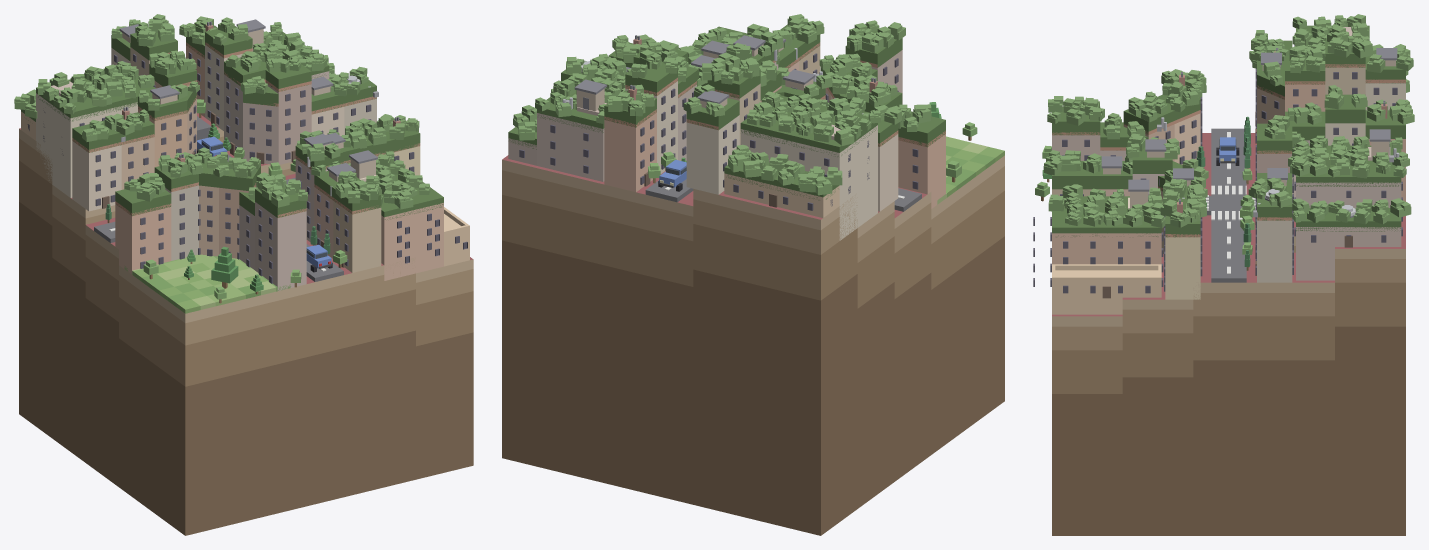
The model's file is block_16_greenroof_65.glb.
3 renders of one model, left to right at view 1: azimuth 30°, elevation 25°; view 2: azimuth 150°, elevation 25°; view 3: azimuth 270°, elevation 25°, orthographic. The views are drawn at different scales.
Visible parts, largest first — view 1: Patch_MidRight_b18_GR, Cerda_MidRight_b18_GR, GR_Roof_Cerda_MidRight_b18_GR, Insets_MidRight_b18_GR, Green_MidRight_b18_GR, CerdaRoofProps_MidRight_b18_GR, GR_Roof_Insets_MidRight_b18_GR, Roads_MidRight_b18_GR, Asset_Tree_Pine.005_GR; view 2: Patch_MidRight_b18_GR, Cerda_MidRight_b18_GR, Insets_MidRight_b18_GR, GR_Roof_Cerda_MidRight_b18_GR, GR_Roof_Insets_MidRight_b18_GR, CerdaRoofProps_MidRight_b18_GR, Green_MidRight_b18_GR, Roads_MidRight_b18_GR, Asset_Car.033_GR; view 3: Patch_MidRight_b18_GR, Cerda_MidRight_b18_GR, Insets_MidRight_b18_GR, GR_Roof_Cerda_MidRight_b18_GR, Roads_MidRight_b18_GR, GR_Roof_Insets_MidRight_b18_GR, CerdaRoofProps_MidRight_b18_GR, Asset_Car.034_GR, Zebra_MidRight_b18_GR.
Part boxes in pixels (x1,y1,x2,y2): Patch_MidRight_b18_GR: (19, 113, 473, 535); Cerda_MidRight_b18_GR: (72, 42, 420, 290); GR_Roof_Cerda_MidRight_b18_GR: (72, 25, 420, 217); Insets_MidRight_b18_GR: (21, 47, 469, 280); Green_MidRight_b18_GR: (124, 254, 290, 313); CerdaRoofProps_MidRight_b18_GR: (115, 19, 400, 196); GR_Roof_Insets_MidRight_b18_GR: (21, 31, 443, 219); Roads_MidRight_b18_GR: (94, 116, 343, 281); Asset_Tree_Pine.005_GR: (211, 246, 238, 288); Patch_MidRight_b18_GR: (502, 155, 1004, 535); Cerda_MidRight_b18_GR: (604, 42, 945, 211); Insets_MidRight_b18_GR: (508, 103, 877, 240); GR_Roof_Cerda_MidRight_b18_GR: (561, 24, 945, 147); GR_Roof_Insets_MidRight_b18_GR: (508, 26, 877, 200); CerdaRoofProps_MidRight_b18_GR: (562, 35, 877, 114); Green_MidRight_b18_GR: (937, 136, 1004, 204); Roads_MidRight_b18_GR: (645, 179, 921, 211); Asset_Car.033_GR: (658, 159, 686, 191); Patch_MidRight_b18_GR: (1052, 133, 1405, 535); Cerda_MidRight_b18_GR: (1052, 64, 1405, 299); Insets_MidRight_b18_GR: (1033, 27, 1402, 314); GR_Roof_Cerda_MidRight_b18_GR: (1052, 39, 1405, 237); Roads_MidRight_b18_GR: (1206, 128, 1255, 282); GR_Roof_Insets_MidRight_b18_GR: (1052, 25, 1401, 237); CerdaRoofProps_MidRight_b18_GR: (1101, 48, 1399, 217); Asset_Car.034_GR: (1216, 137, 1239, 165); Zebra_MidRight_b18_GR: (1205, 185, 1255, 220).
Size of the model in its own units: 9.95 by 12.04 by 10.24.
